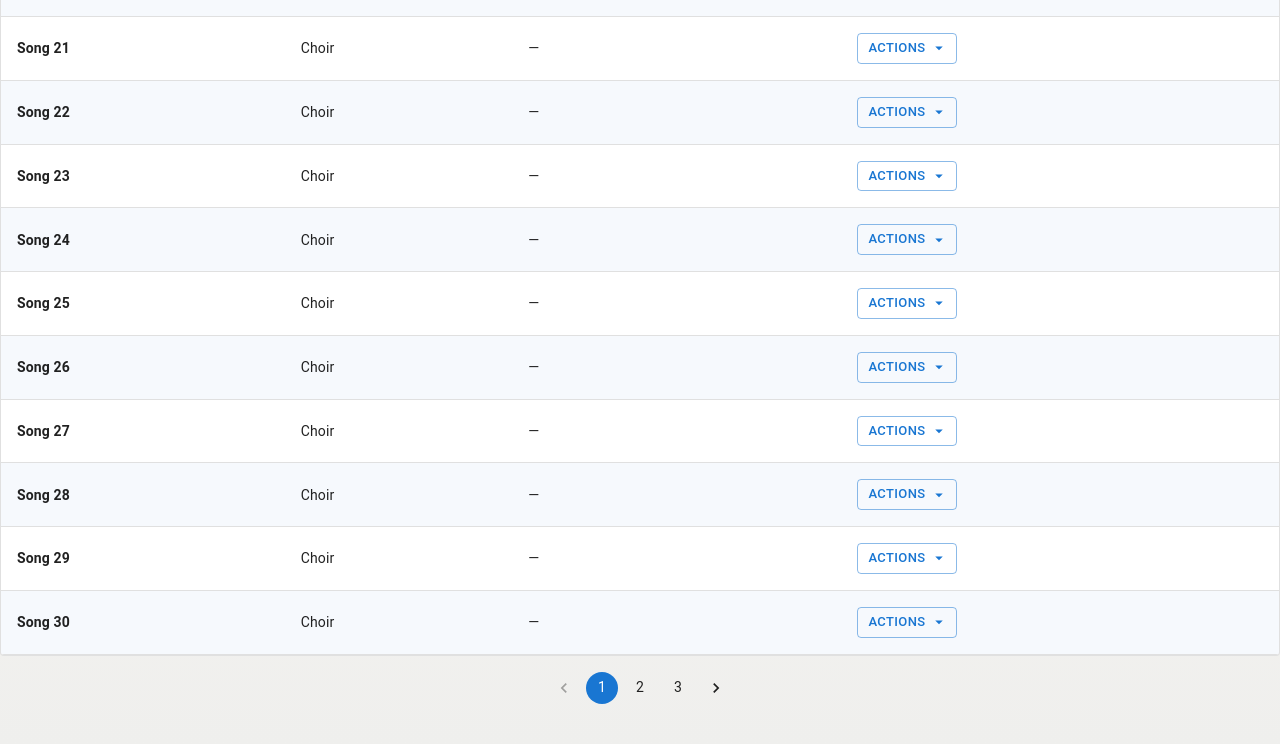
Scenario: shows 30 songs with working pagination above and below the list
(page scrolled)
Expected: the text "Song 31" is not shown
Click the button named "Go to page 3": (678, 688) [662, 672, 694, 704]
(page scrolled)
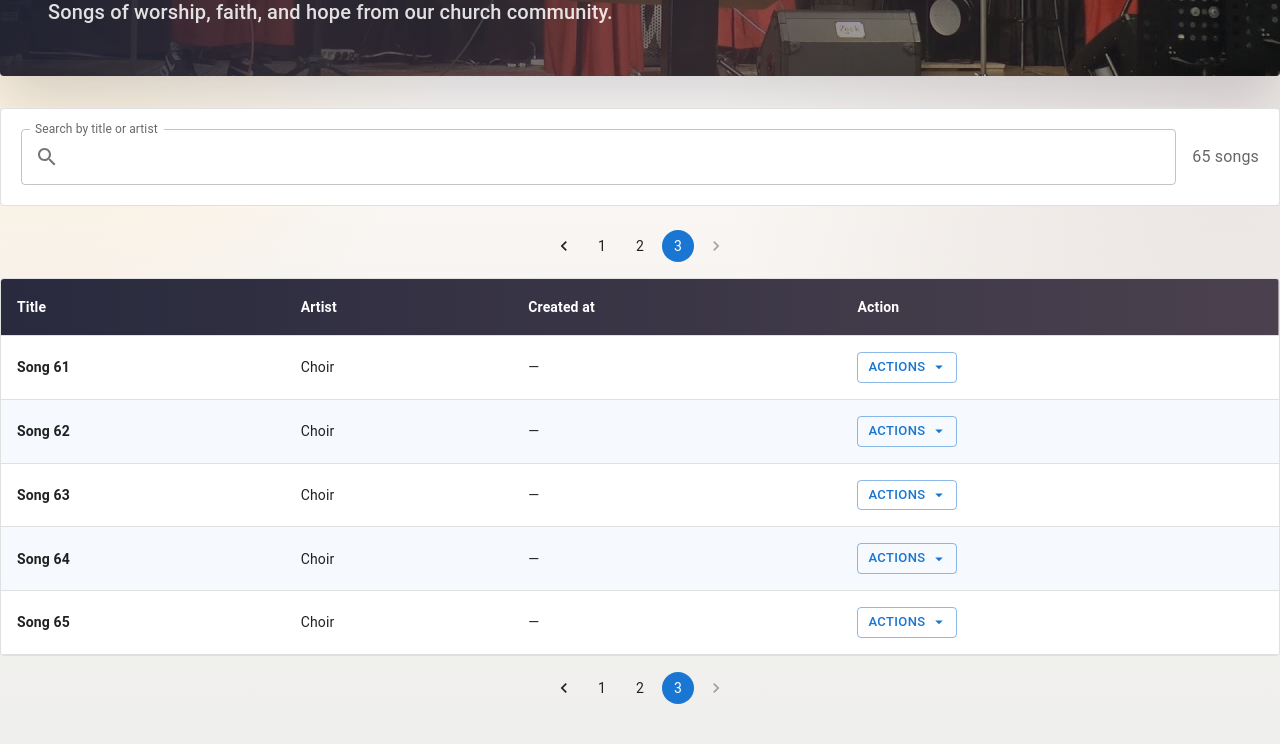
Expected: the number of links named "View Song" is 5, [1, 336, 1279, 399]; [1, 399, 1279, 463]; [1, 463, 1279, 527]; [1, 527, 1279, 591]; [1, 590, 1279, 654]
Expected: the column heading "Song 61" is shown, [1, 336, 285, 399]
Click the 1st button named "Go to previous page": (564, 246) [548, 230, 580, 262]
(page scrolled)
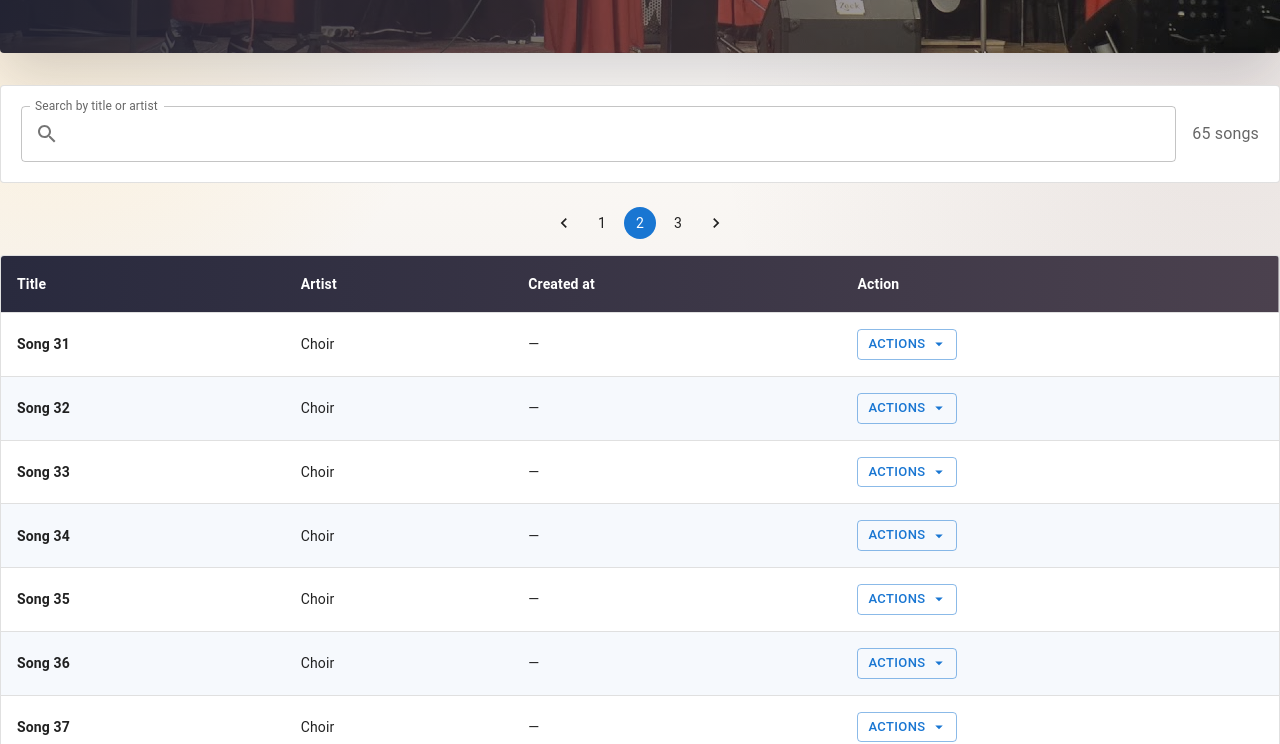
Expected: the column heading "Song 31" is shown, [1, 312, 285, 376]
